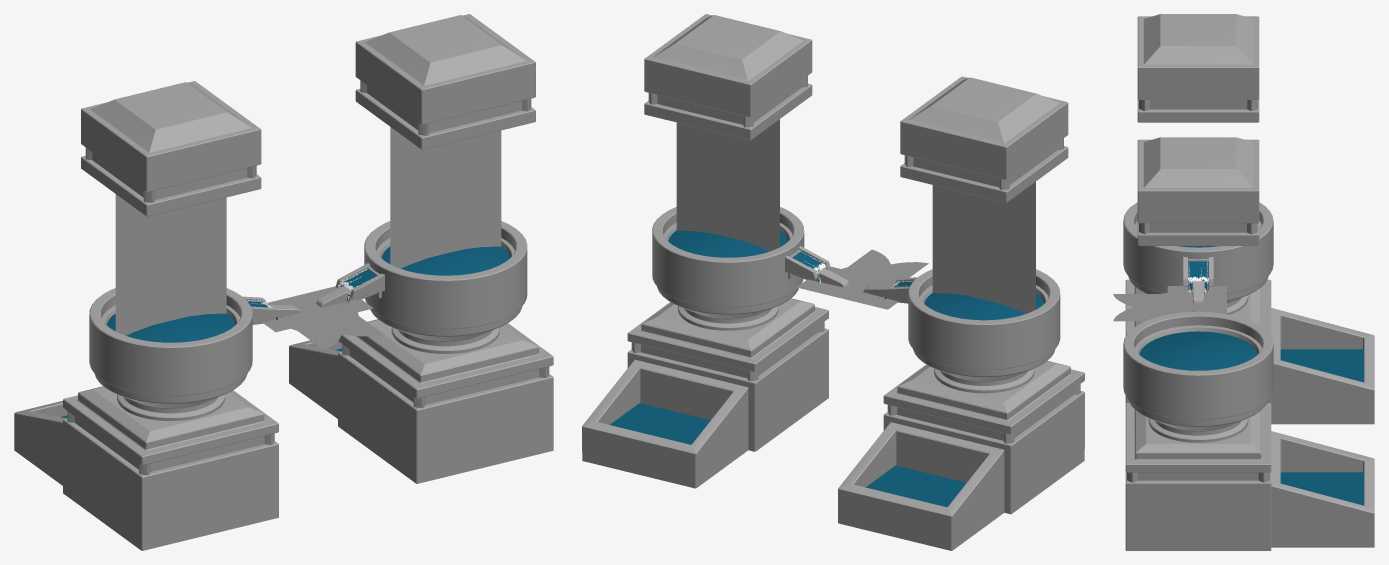
The model's file is Distiller.fbx.
3 views of the same model, side by side, from view 1: azimuth 30°, elevation 25°; view 2: azimuth 150°, elevation 25°; view 3: azimuth 270°, elevation 25° (orthographic). The views are drawn at different scales.
Visible parts, largest first — view 1: Base_Distiller_L, Base_Distiller_R, Top_Distiller_R, Top_Distiller_L, FX_Lava_L, FX_Lava_R, Surface_Drop_02 (×2), Input_Distiller_L, Input_Distiller_R, Liquid_Output_R; view 2: Base_Distiller_L, Base_Distiller_R, Top_Distiller_L, Top_Distiller_R, Input_Distiller_R, Input_Distiller_L, FX_Lava_L, FX_Lava_R, Surface_Drop_02 (×2), Liquid_Output_R; view 3: Base_Distiller_R, Top_Distiller_L, Top_Distiller_R, Input_Distiller_R, Input_Distiller_L, Base_Distiller_L, Surface_Drop_02 (×2), Liquid, Solid_Output_L, Liquid_Output_L.
Part boxes in pixels (left/top/right/bottom): Base_Distiller_L: left=63, top=288, right=278, bottom=550; Base_Distiller_R: left=338, top=221, right=553, bottom=483; Top_Distiller_R: left=355, top=14, right=535, bottom=149; Top_Distiller_L: left=81, top=81, right=261, bottom=216; FX_Lava_L: left=115, top=194, right=226, bottom=335; FX_Lava_R: left=390, top=127, right=501, bottom=268; Surface_Drop_02 (×2): left=263, top=286, right=384, bottom=349; Input_Distiller_L: left=14, top=401, right=67, bottom=485; Input_Distiller_R: left=289, top=340, right=342, bottom=418; Liquid_Output_R: left=335, top=263, right=384, bottom=298; Base_Distiller_L: left=883, top=269, right=1084, bottom=514; Base_Distiller_R: left=627, top=207, right=828, bottom=451; Top_Distiller_L: left=900, top=76, right=1068, bottom=202; Top_Distiller_R: left=644, top=14, right=812, bottom=140; Input_Distiller_R: left=582, top=359, right=748, bottom=488; Input_Distiller_L: left=838, top=422, right=1004, bottom=550; FX_Lava_L: left=932, top=182, right=1035, bottom=313; FX_Lava_R: left=676, top=119, right=779, bottom=251; Surface_Drop_02 (×2): left=796, top=249, right=928, bottom=309; Liquid_Output_R: left=785, top=246, right=830, bottom=279; Base_Distiller_R: left=1123, top=311, right=1273, bottom=550; Top_Distiller_L: left=1137, top=14, right=1259, bottom=122; Top_Distiller_R: left=1137, top=137, right=1259, bottom=245; Input_Distiller_R: left=1271, top=431, right=1374, bottom=547; Input_Distiller_L: left=1271, top=308, right=1374, bottom=424; Base_Distiller_L: left=1123, top=202, right=1273, bottom=403; Surface_Drop_02 (×2): left=1113, top=286, right=1226, bottom=321; Liquid: left=1188, top=261, right=1208, bottom=291; Solid_Output_L: left=1188, top=259, right=1208, bottom=303; Liquid_Output_L: left=1183, top=256, right=1213, bottom=286.
Size of the model in its own units: 3.03 by 2.78 by 1.8.
